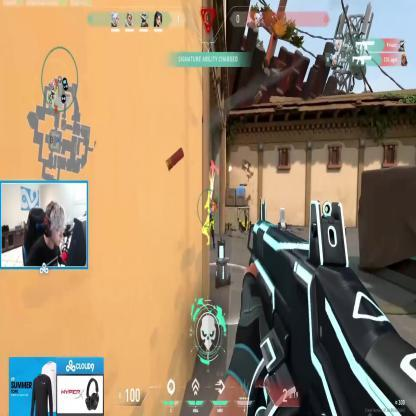enemy: (202, 192, 217, 256)
enemy_head: (206, 193, 211, 204)
